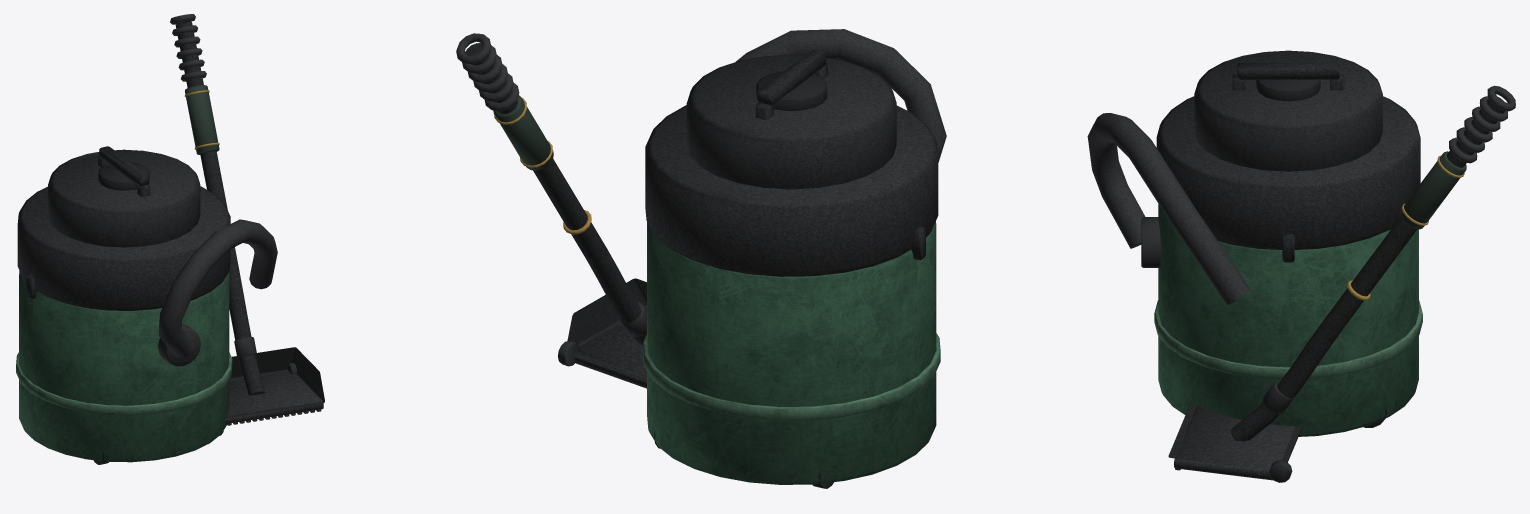
Rendered from asset_071_vacuum_cleaner.glb.
The picture shows the model from 3 angles, left to right: view 1: azimuth 30°, elevation 25°; view 2: azimuth 150°, elevation 25°; view 3: azimuth 270°, elevation 25°; orthographic projection. The views are drawn at different scales.
Parts seen in each view (by area): view 1: MESH_VacuumMachine, MESH_VacHose, MESH_VacWandSpine, MESH_VacHeadSole, MESH_VacHeadShell, MESH_VacWandGrip; view 2: MESH_VacuumMachine, MESH_VacHose, MESH_VacWandSpine, MESH_VacHeadSole, MESH_VacHeadShell, MESH_VacWandGrip, MESH_VacHoseRib_5; view 3: MESH_VacuumMachine, MESH_VacHose, MESH_VacWandSpine, MESH_VacHeadSole, MESH_VacWandGrip, MESH_VacHeadShell.
Part boxes in pixels (bbox=[...]): MESH_VacuumMachine: bbox=[16, 146, 232, 464]; MESH_VacHose: bbox=[158, 219, 277, 357]; MESH_VacWandSpine: bbox=[175, 22, 264, 395]; MESH_VacHeadSole: bbox=[225, 373, 323, 423]; MESH_VacHeadShell: bbox=[224, 347, 324, 418]; MESH_VacWandGrip: bbox=[185, 85, 219, 154]; MESH_VacuumMachine: bbox=[642, 50, 940, 488]; MESH_VacHose: bbox=[736, 29, 946, 162]; MESH_VacWandSpine: bbox=[465, 43, 646, 345]; MESH_VacHeadSole: bbox=[575, 322, 646, 388]; MESH_VacHeadShell: bbox=[567, 278, 646, 382]; MESH_VacWandGrip: bbox=[493, 95, 553, 170]; MESH_VacHoseRib_5: bbox=[456, 33, 491, 64]; MESH_VacuumMachine: bbox=[1141, 50, 1422, 436]; MESH_VacHose: bbox=[1087, 113, 1250, 305]; MESH_VacWandSpine: bbox=[1230, 97, 1505, 441]; MESH_VacHeadSole: bbox=[1174, 405, 1295, 480]; MESH_VacWandGrip: bbox=[1399, 151, 1466, 229]; MESH_VacHeadShell: bbox=[1168, 402, 1302, 462].
Bounding box in the file's own units: 0.702 × 0.78 × 0.9747.
Materials: 9 (8 with a texture image).
